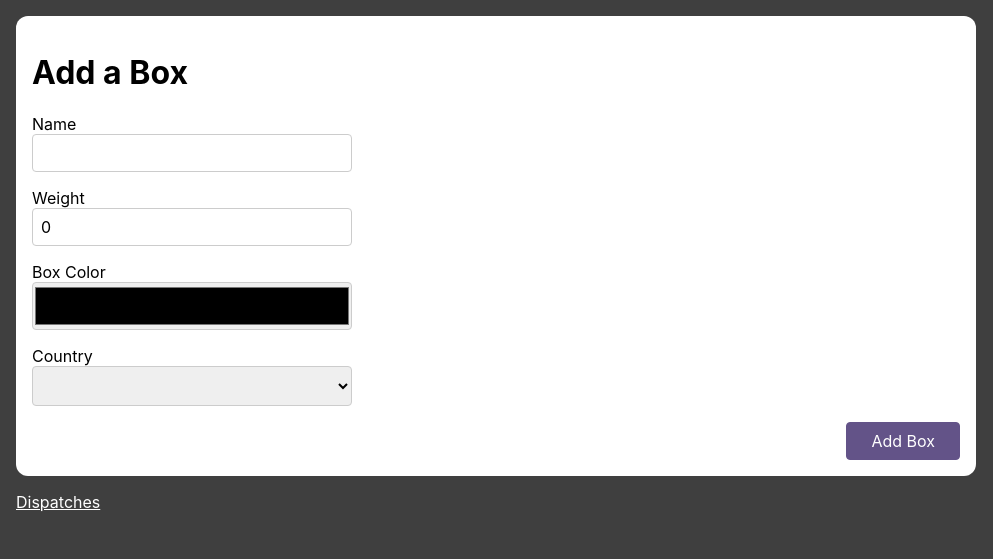
it: AddBoxForm Component › Name input error displaying after input touched
The image size is (993, 559).
Click the field labelled "Name" at coordinates (192, 153), box x1=32 y1=134 x2=352 y2=172
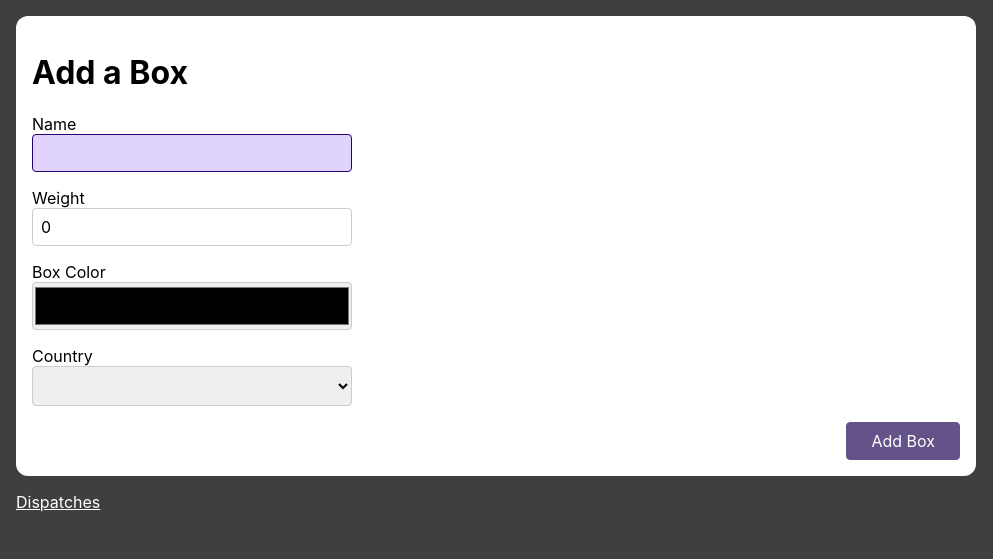
Leave the field labelled "Name", box x1=32 y1=134 x2=352 y2=172
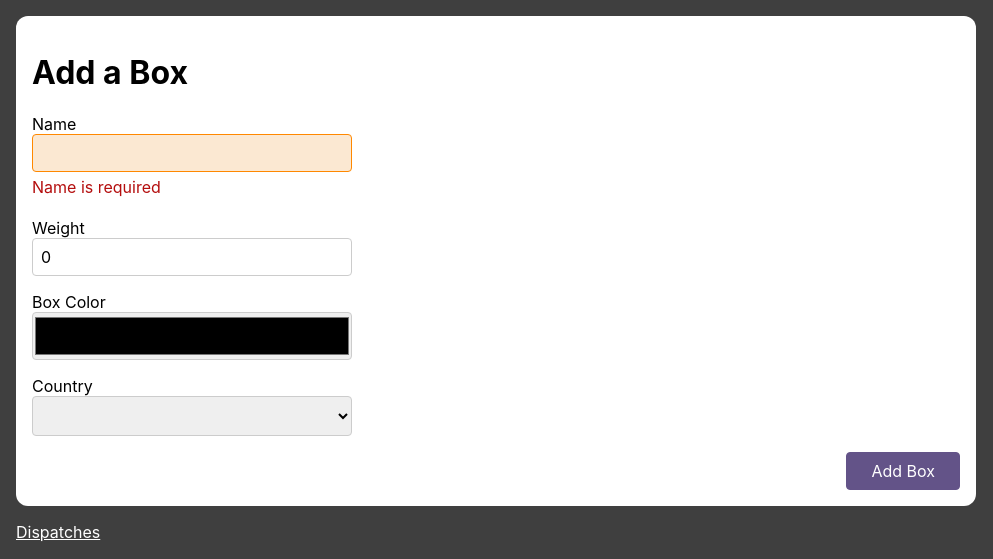
Expected: the text "Name is required" is shown, x1=32 y1=177 x2=161 y2=197
